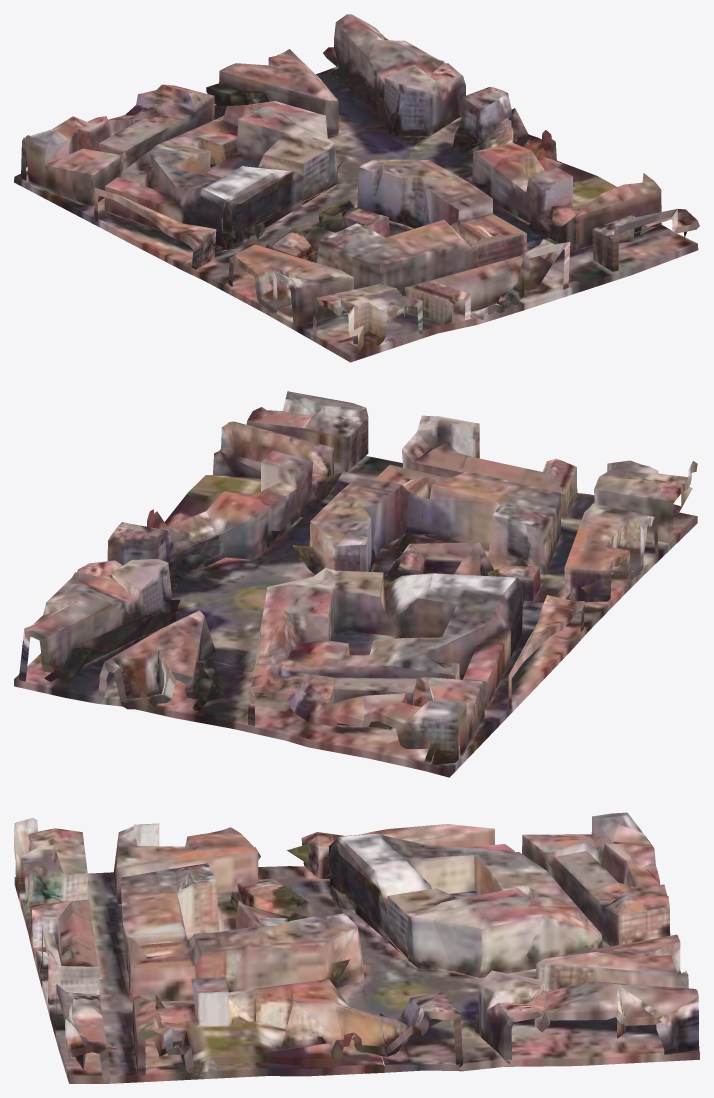
3 views of the same model, one above another, from view 1: azimuth 30°, elevation 25°; view 2: azimuth 150°, elevation 25°; view 3: azimuth 270°, elevation 25° (orthographic). The views are drawn at different scales.
Visible parts, largest first — view 1: Mesh_0; view 2: Mesh_0; view 3: Mesh_0.
Boxes of the visible parts, bbox=[...] form: Mesh_0: bbox=[14, 14, 699, 362]; Mesh_0: bbox=[14, 391, 697, 777]; Mesh_0: bbox=[14, 812, 699, 1083].
Size of the model in its own units: 267 by 42.06 by 330.
Materials: 2 (2 with a texture image).
